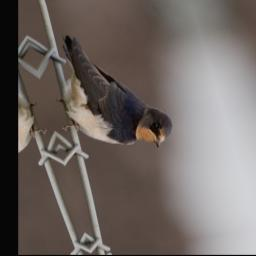Swallow: (36, 22, 180, 161)
